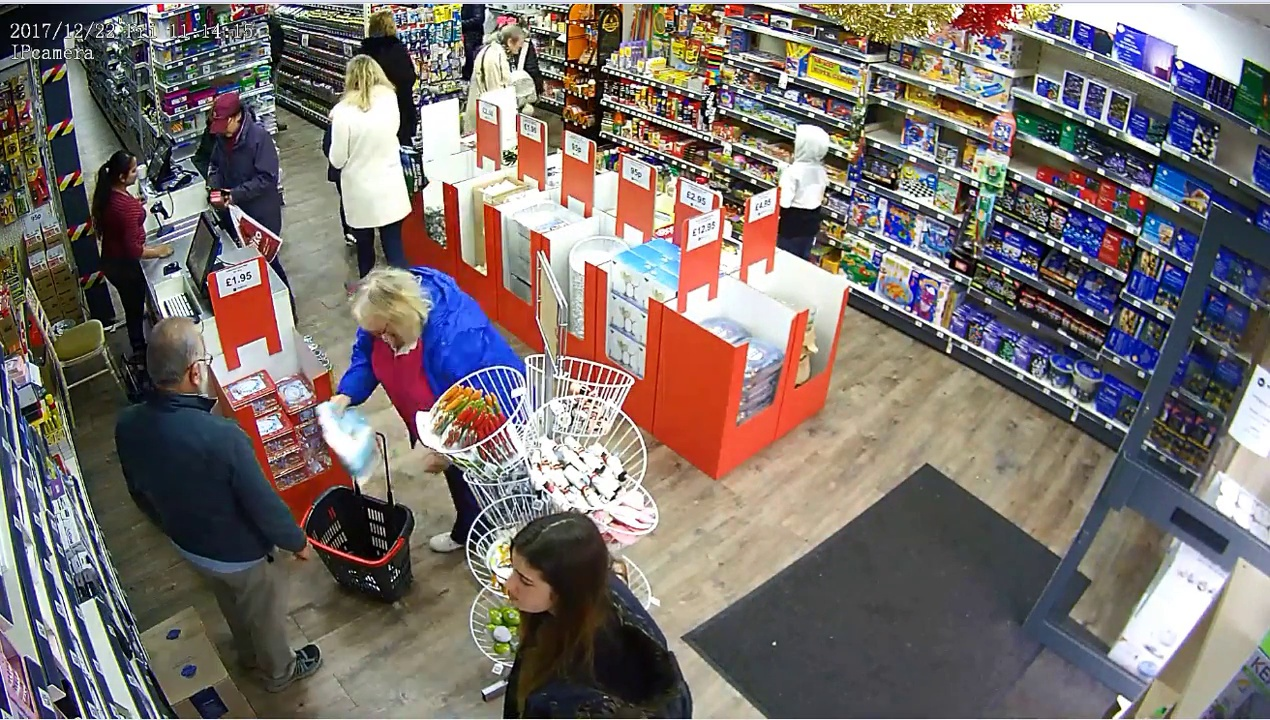face: (502, 553, 549, 621), (119, 157, 141, 186)
